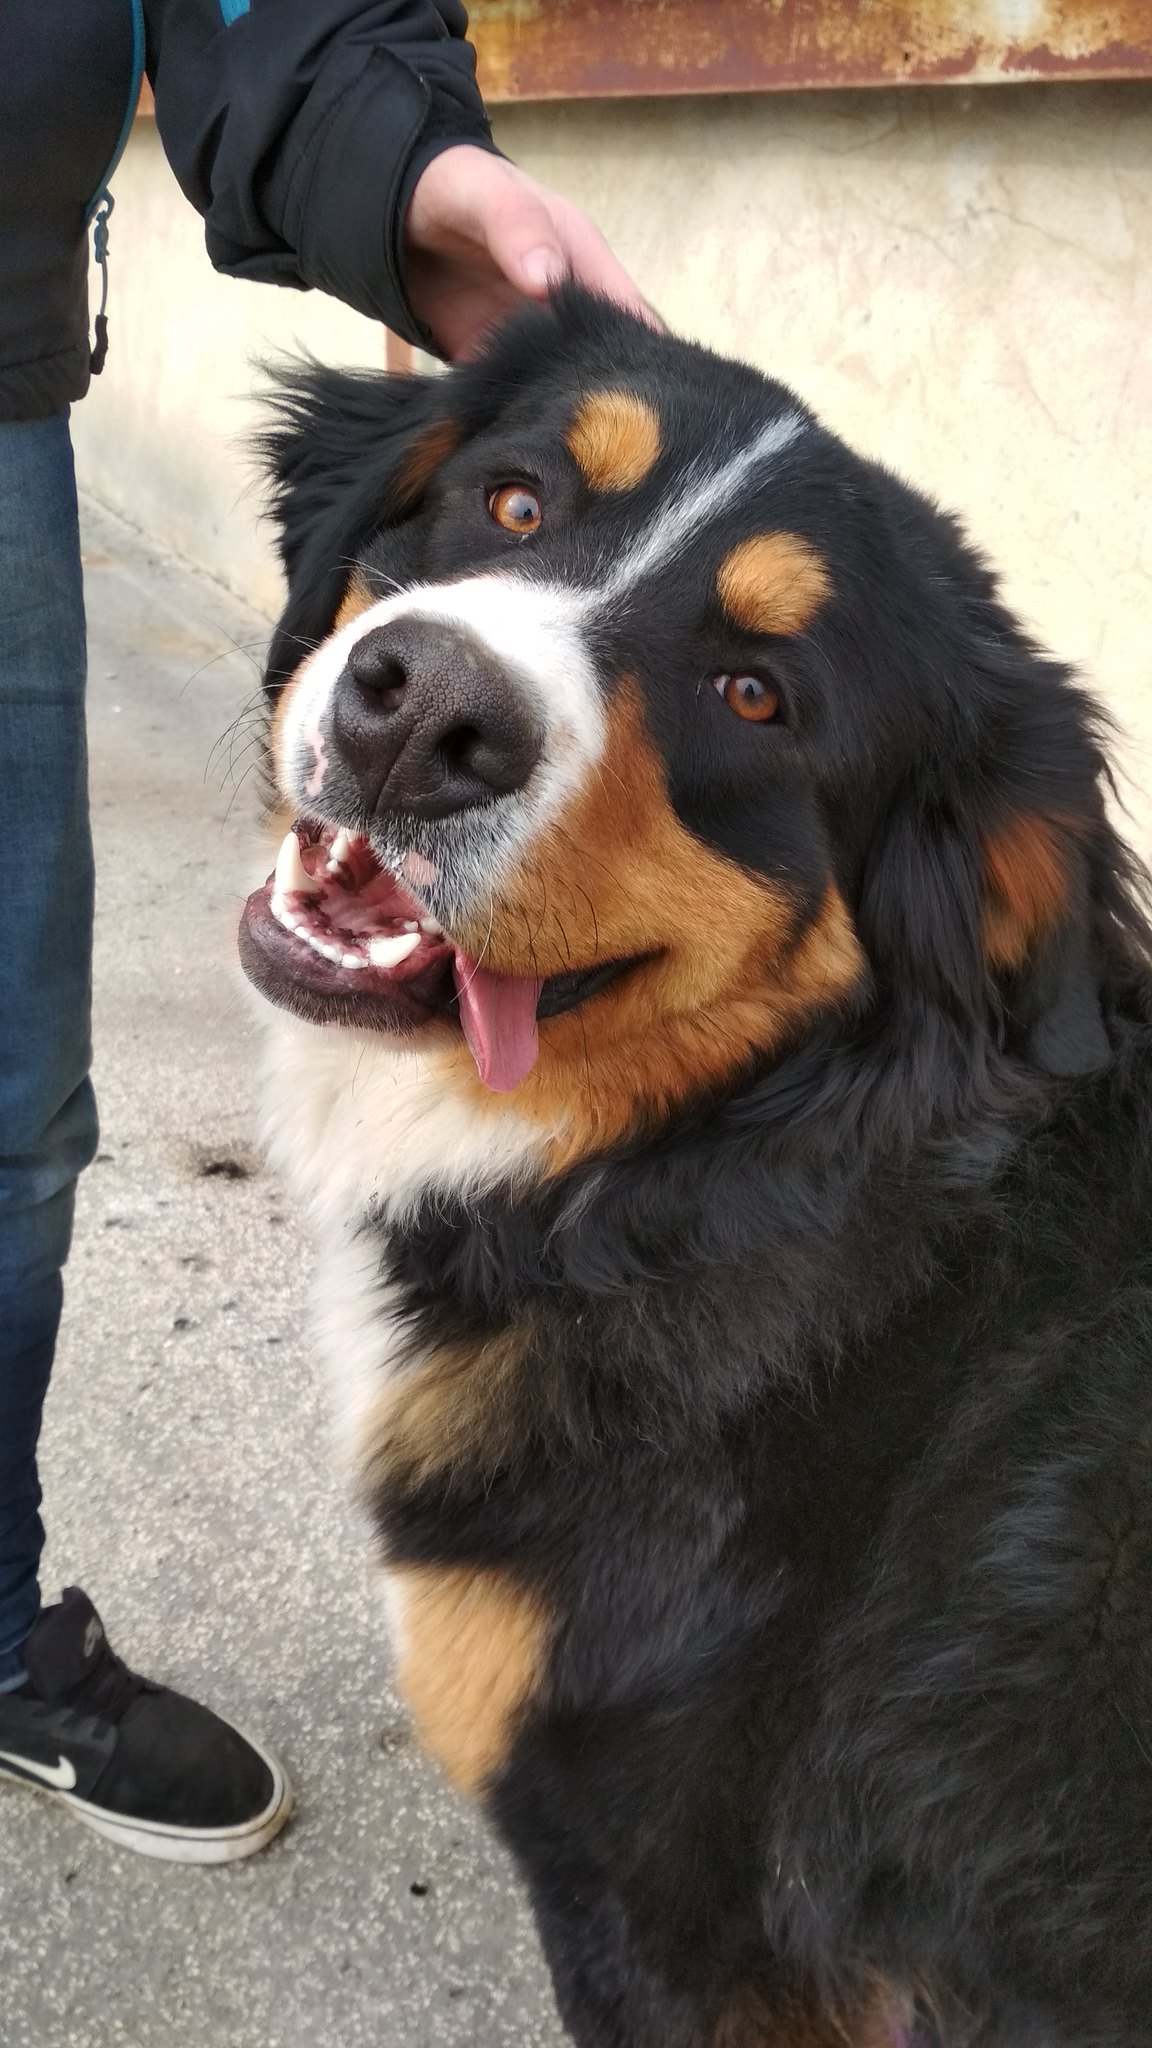dog: (218, 332, 1152, 2028)
